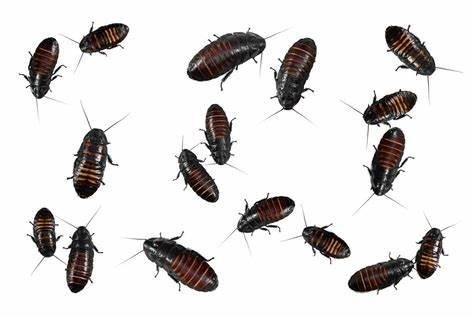cockroach: (143, 233, 221, 295), (184, 28, 266, 83), (273, 34, 319, 115), (70, 123, 109, 198), (384, 25, 436, 79), (367, 127, 405, 200), (174, 147, 221, 204), (64, 222, 101, 294), (348, 256, 416, 294), (235, 195, 296, 235), (362, 87, 418, 126), (203, 100, 235, 167), (27, 35, 58, 102), (300, 222, 351, 262), (413, 218, 445, 280), (28, 206, 62, 262), (75, 24, 130, 56)
